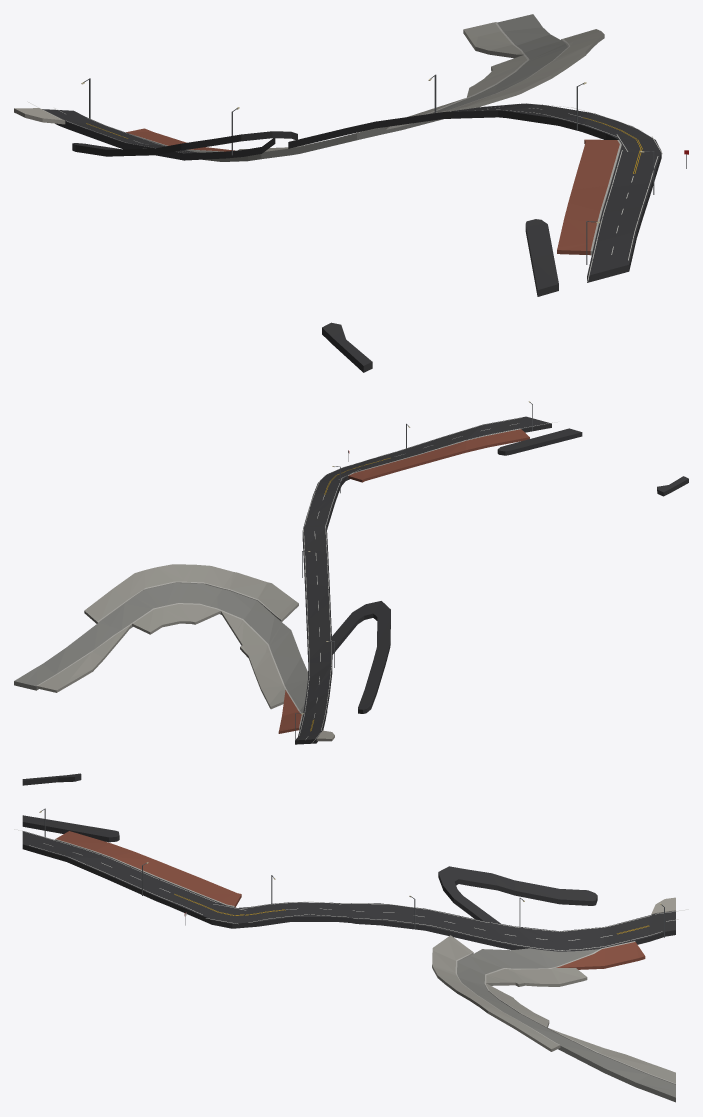
Rendered from 18-218885-118959.23fcd355.glb.
The picture shows the model from 3 angles, top to bottom: view 1: azimuth 30°, elevation 25°; view 2: azimuth 150°, elevation 25°; view 3: azimuth 270°, elevation 25°; orthographic projection. The views are drawn at different scales.
Size of the model in its own units: 115 by 38.98 by 151.
